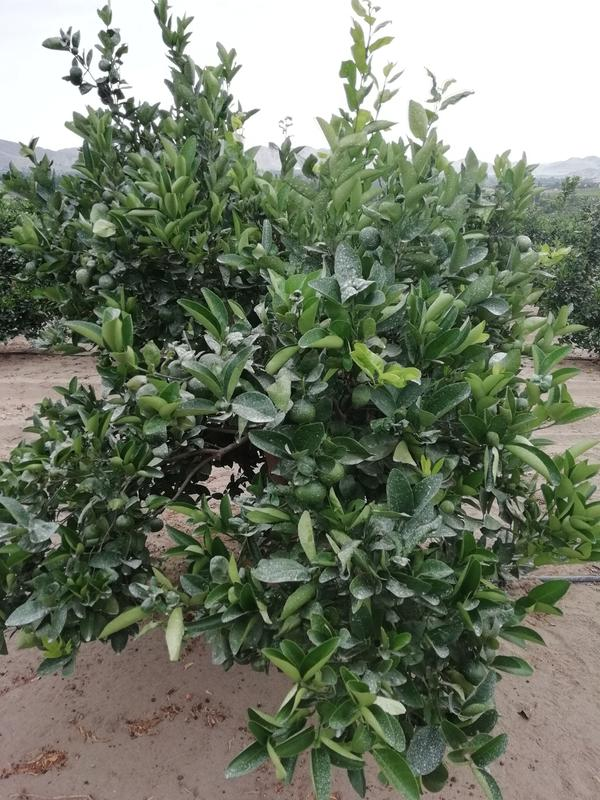mandarina verde: (295, 479, 327, 504), (289, 399, 316, 423), (319, 460, 344, 485), (359, 227, 381, 249), (75, 268, 92, 285), (145, 516, 163, 532), (115, 516, 136, 529), (517, 235, 532, 253), (99, 274, 117, 289)
